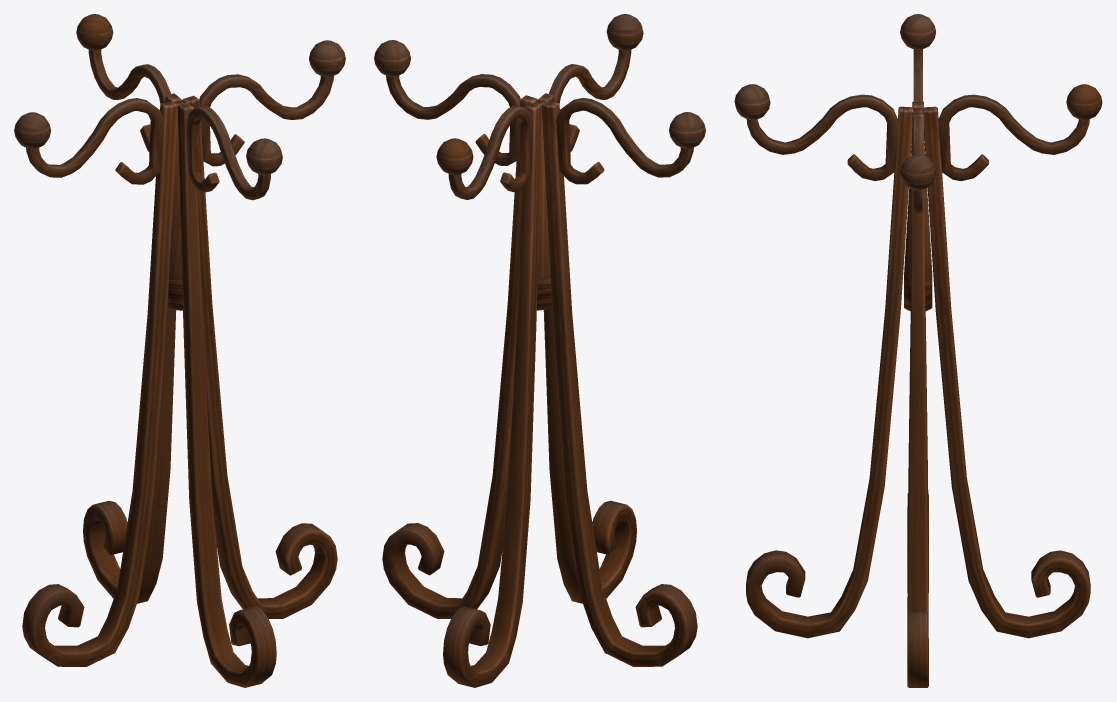
File: source.glb
3 renders of one model, left to right at view 1: azimuth 30°, elevation 25°; view 2: azimuth 150°, elevation 25°; view 3: azimuth 270°, elevation 25°, orthographic. The views are drawn at different scales.
Parts seen in each view (by area): view 1: sph_low; view 2: sph_low; view 3: sph_low.
Boxes of the visible parts, x1,y1,x2,y2 form: sph_low: (14, 14, 345, 687); sph_low: (374, 14, 705, 687); sph_low: (734, 14, 1102, 687).
Bounding box in the file's own units: 109 × 179 × 109.
1 material, 1 textured.
